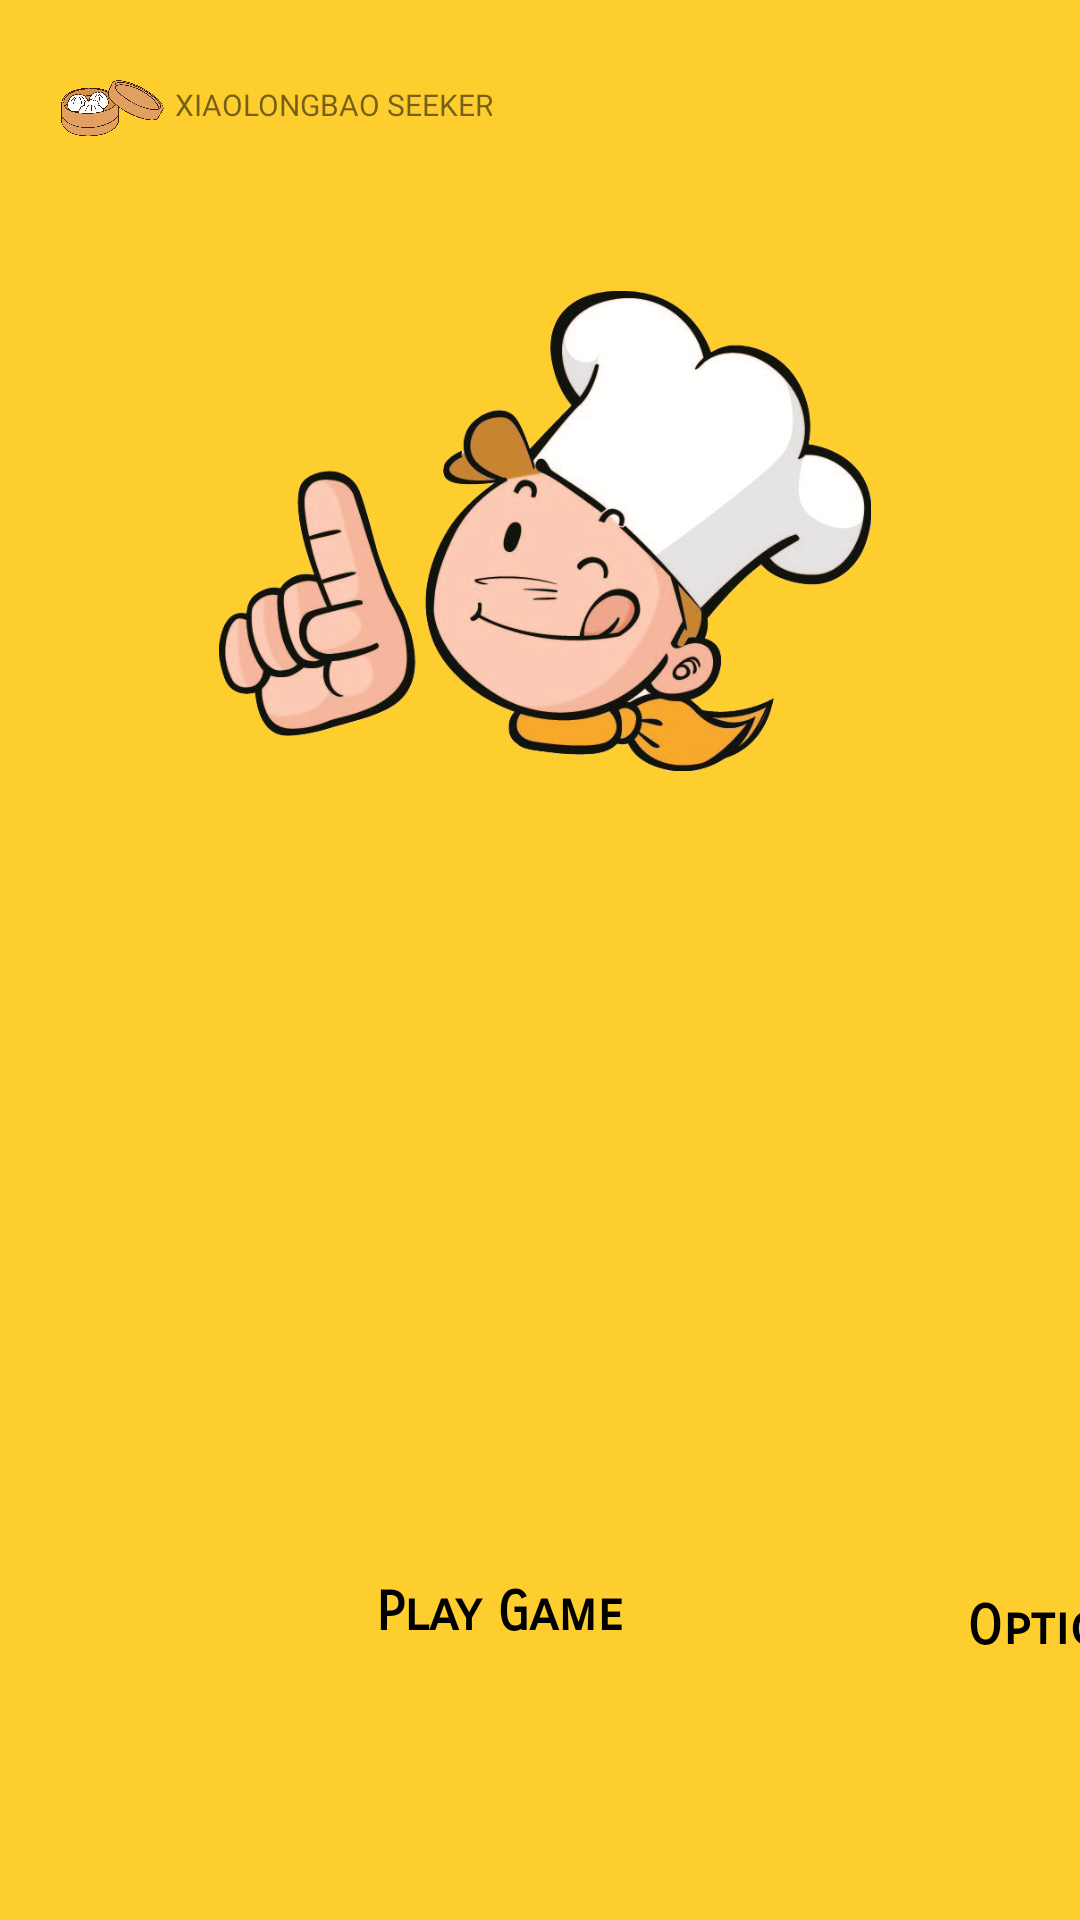

Screen size 1080 x 1920. Icon name, then its box in pixels as (x1, y1, x2, y2):
welcome screen buns: (61, 80, 164, 136)
